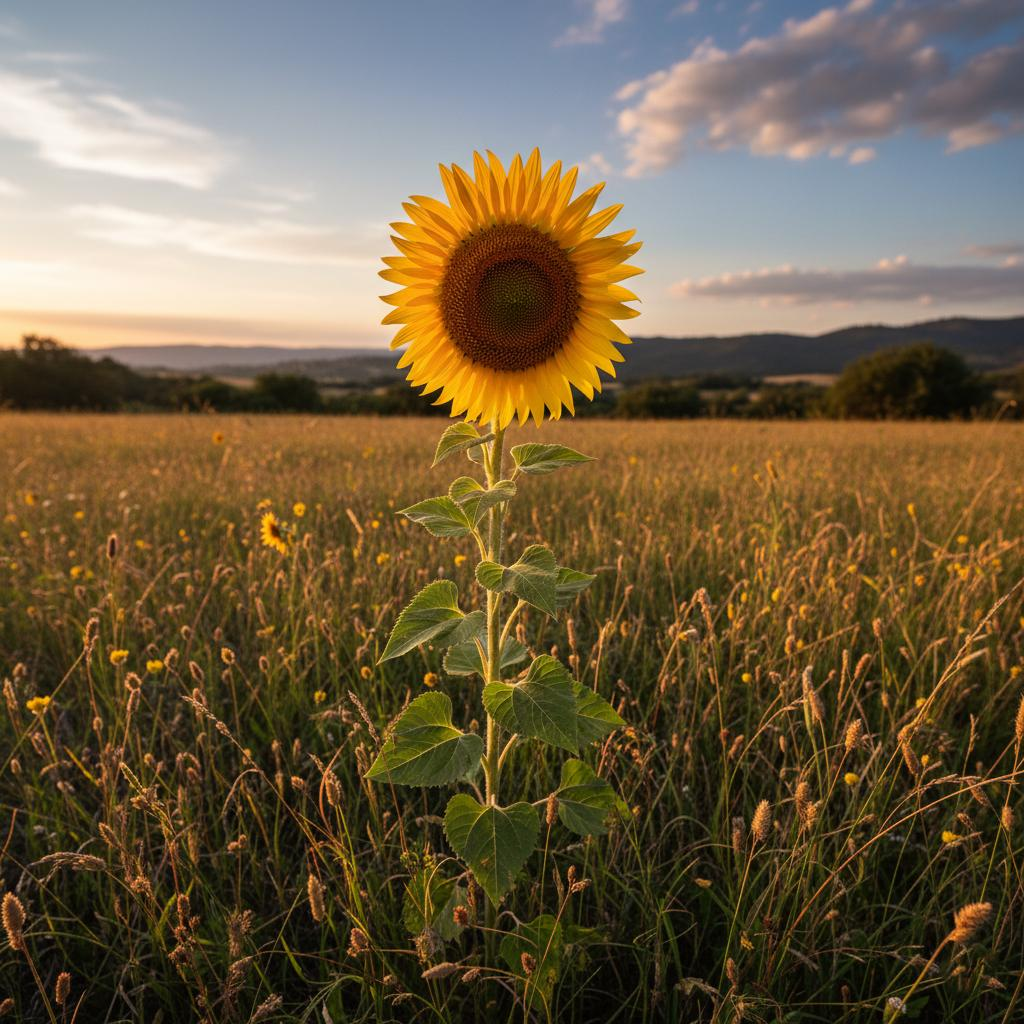sunflower: (376, 146, 644, 432)
